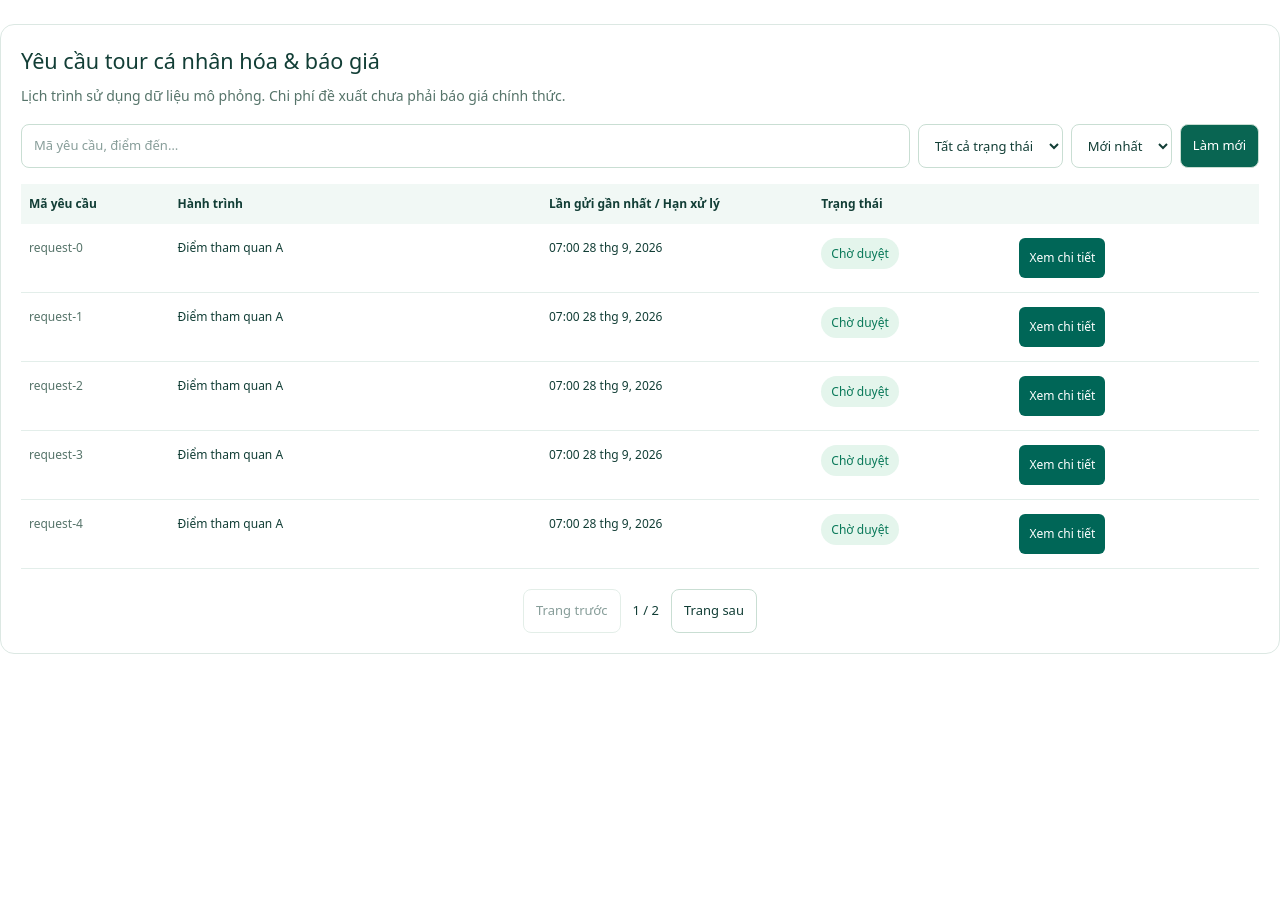
shows actual request state and itinerary with five requests per page
The width and height of the screenshot is (1280, 900).
Expected: the text "Chờ duyệt" is shown 5 times, [821,238,899,269]; [821,307,899,338]; [821,376,899,407]; [821,445,899,476]; [821,514,899,545]
Expected: the text "request-5" is not shown
Click the button "Trang sau": (714, 611) [671,589,757,633]
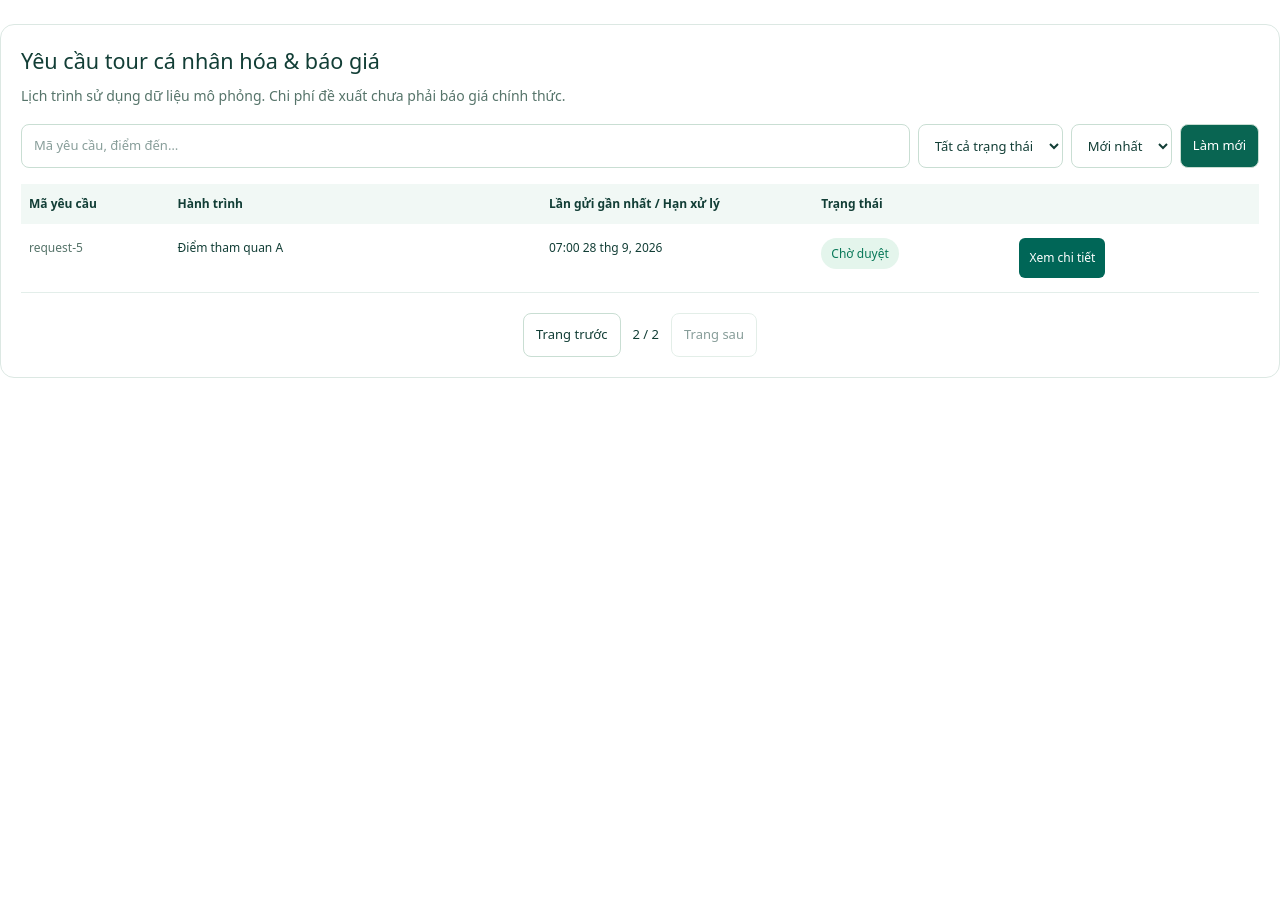
Expected: the text "request-5" is shown, [29,239,83,256]
Expected: the text "Chờ duyệt" is shown once, [821,238,899,269]
